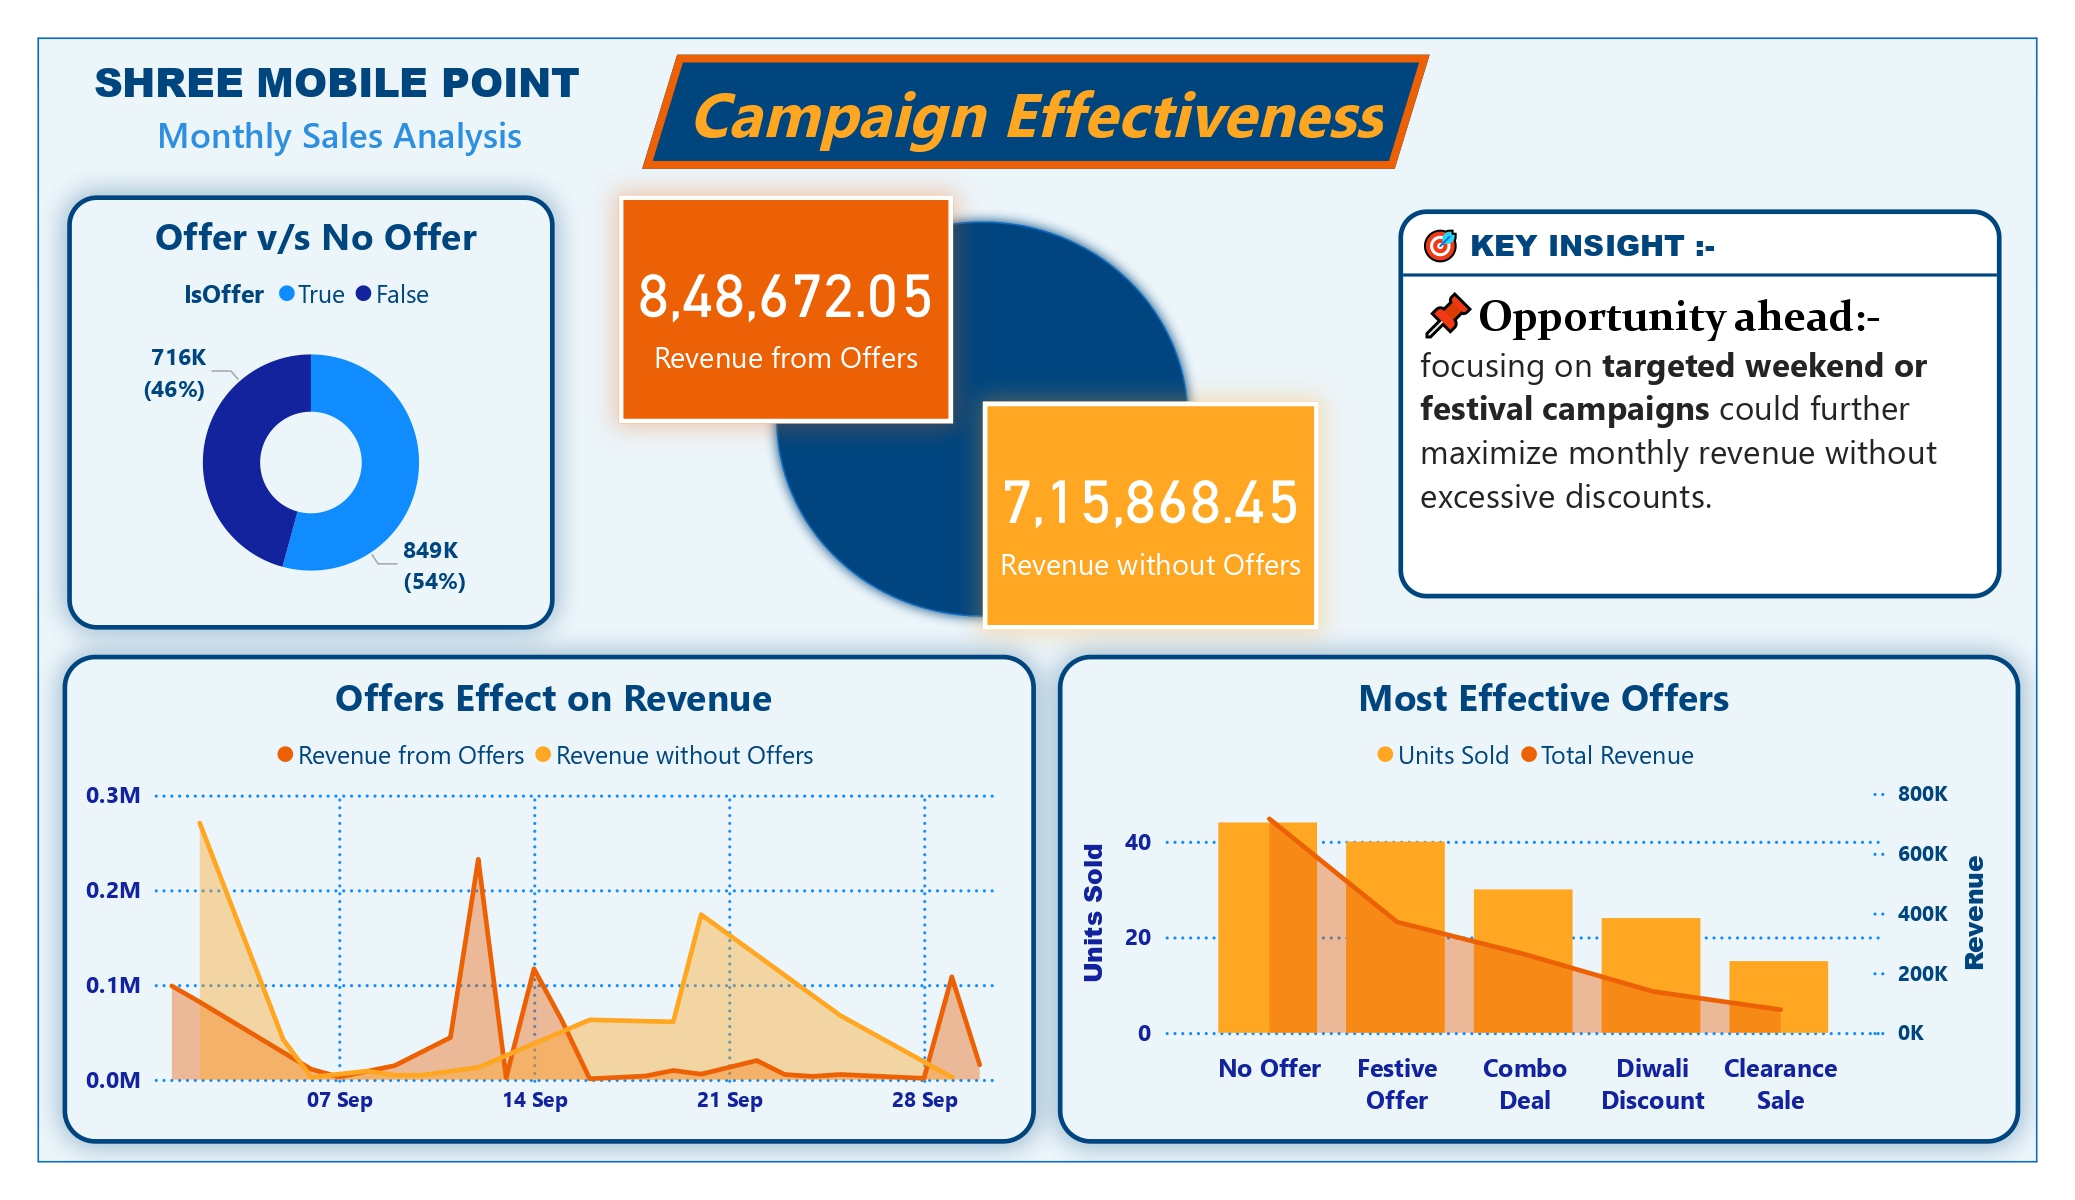

This screenshot's page, from the dashboard's own definition file:
{"tool":"powerbi","page":{"name":"Campaign Effectiveness","canvas":[1280,720],"ordinal":3},"visuals":[{"type":"shape","box":[0,0,1279.8,720],"z":0},{"type":"textbox","title":"SHREE MOBILE POINT","box":[30.9,10.3,326.2,36.7],"z":1000},{"type":"textbox","title":"Monthly Sales Analysis","box":[55.8,47,274.8,36.7],"z":2000},{"type":"shape","box":[387.3,10.9,503.9,73.1],"z":3000},{"type":"lineChart","title":"Offers Effect on Revenue","fields":{"Category":["Sales.Date"],"Y":["Sales.Revenue from Offers","Sales.Revenue without Offers"]},"box":[15.6,395,623.7,312.6],"z":4000},{"type":"lineClusteredColumnComboChart","title":"Most Effective Offers","fields":{"Category":["Sales.Offer or Campaign"],"Y":["Sales.Units Sold"],"Y2":["Sales.Total Revenue"]},"box":[653.2,395,615.9,312.6],"z":5000},{"type":"donutChart","title":"Offer v/s No Offer","fields":{"Y":["Sales.Total Revenue"],"Category":["Sales.IsOffer"]},"box":[18.7,101.1,312.6,278.4],"z":6000},{"type":"shape","box":[465,110.4,280,269.1],"z":7000},{"type":"card","fields":{"Values":["Sales.Revenue from Offers"]},"box":[371.7,101.1,214.6,146.2],"z":8000},{"type":"card","fields":{"Values":["Sales.Revenue without Offers"]},"box":[605,233.3,214.6,146.2],"z":9000},{"type":"textbox","title":"🎯 KEY INSIGHT :-","box":[871,110.4,385.7,248.8],"z":10000}]}

Visuals, with their boxes on the page's 1280x720 design canvas (x1, y1, x2, y2). These are canvas units, not pixel positions in the 2075x1200 screenshot, which may show the page scaled, cropped or inside an application window:
shape: l=0, t=0, r=1280, b=720
"SHREE MOBILE POINT" textbox: l=31, t=10, r=357, b=47
"Monthly Sales Analysis" textbox: l=56, t=47, r=331, b=84
shape: l=387, t=11, r=891, b=84
"Offers Effect on Revenue" lineChart: l=16, t=395, r=639, b=708
"Most Effective Offers" lineClusteredColumnComboChart: l=653, t=395, r=1269, b=708
"Offer v/s No Offer" donutChart: l=19, t=101, r=331, b=380
shape: l=465, t=110, r=745, b=380
card - Sales.Revenue from Offers: l=372, t=101, r=586, b=247
card - Sales.Revenue without Offers: l=605, t=233, r=820, b=380
"🎯 KEY INSIGHT :-" textbox: l=871, t=110, r=1257, b=359
